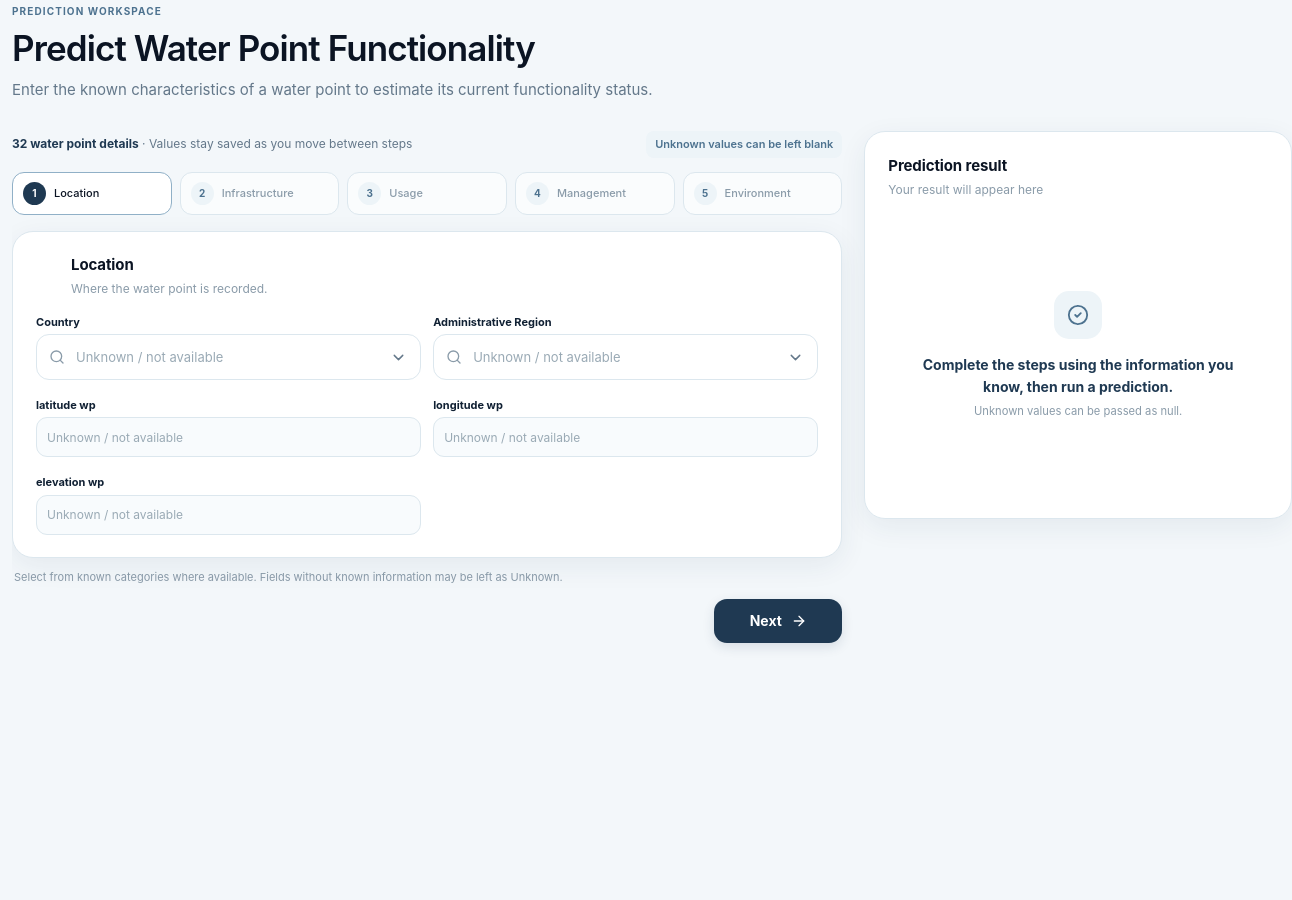
Scenario: production prediction input UX › shows a friendly error when the backend rejects prediction
This screenshot has width=1292, height=900.
Expected: the dropdown labelled "Country" is shown, [36,334,421,380]
Click the button "Next".
click(778, 621)  # box [714,599,842,643]
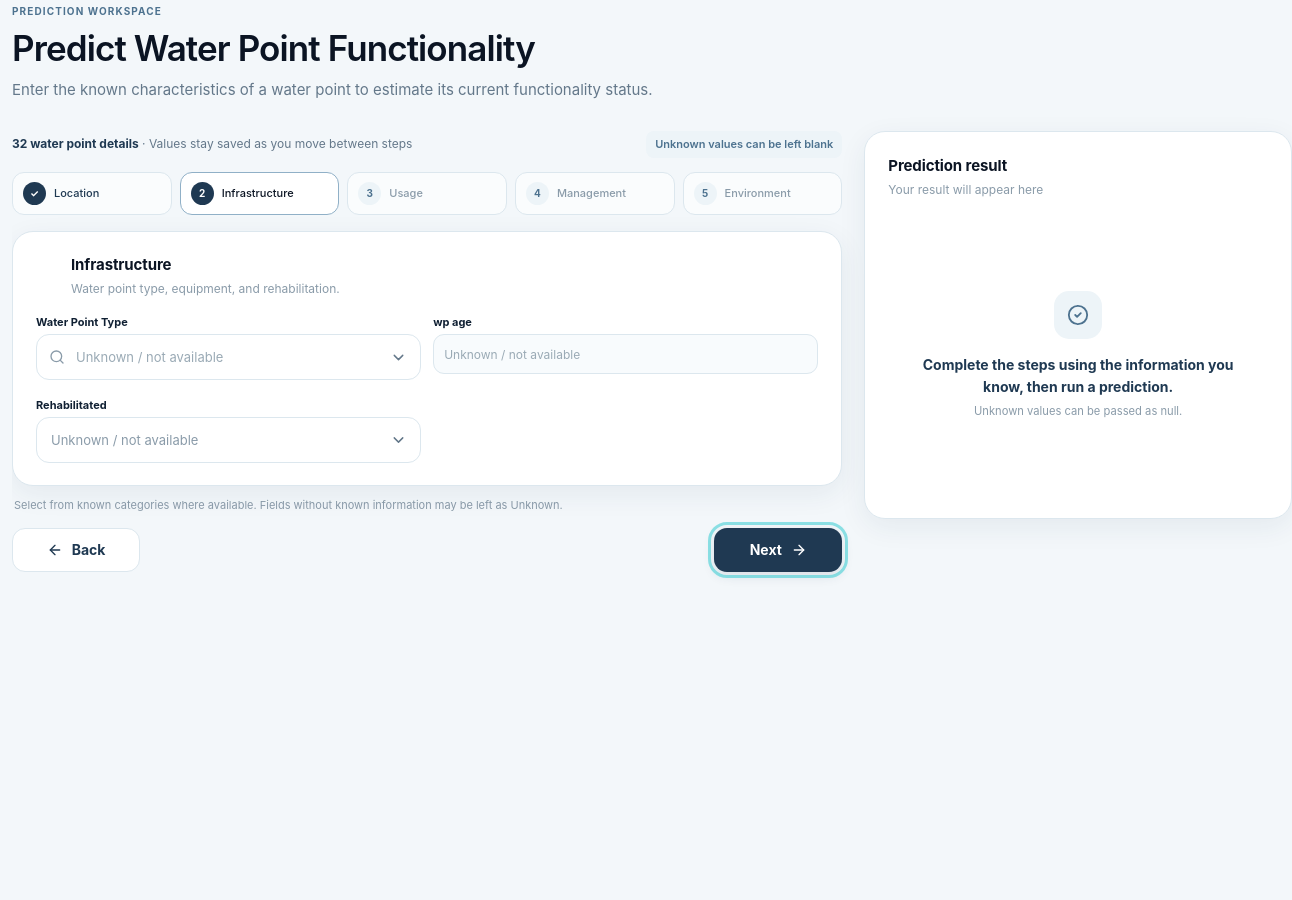
Click the button "Next".
click(778, 550)  # box [714,528,842,572]
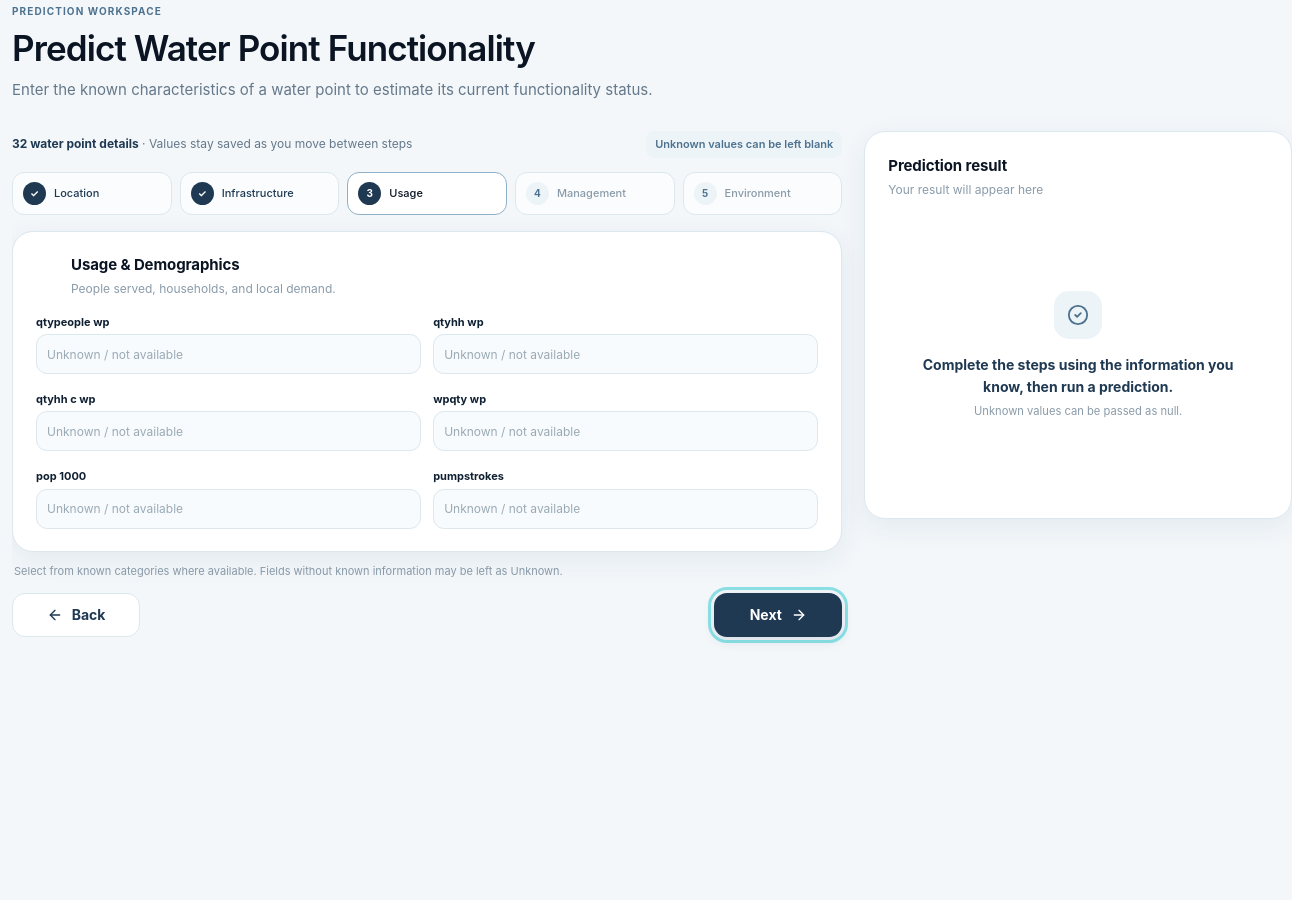
Click the button "Next".
click(778, 615)  # box [714,593,842,637]
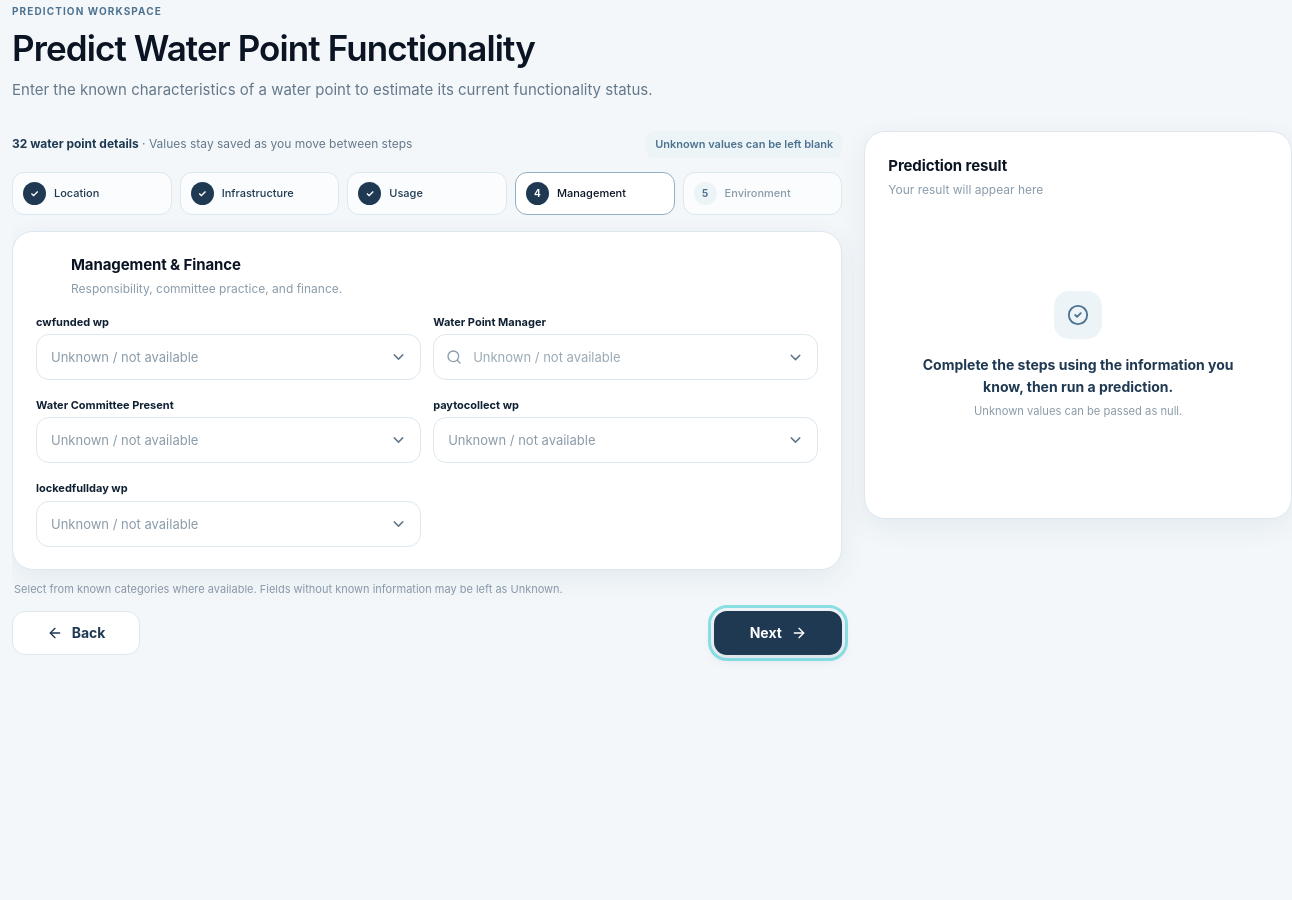
Click the button "Next".
click(778, 633)  # box [714,611,842,655]
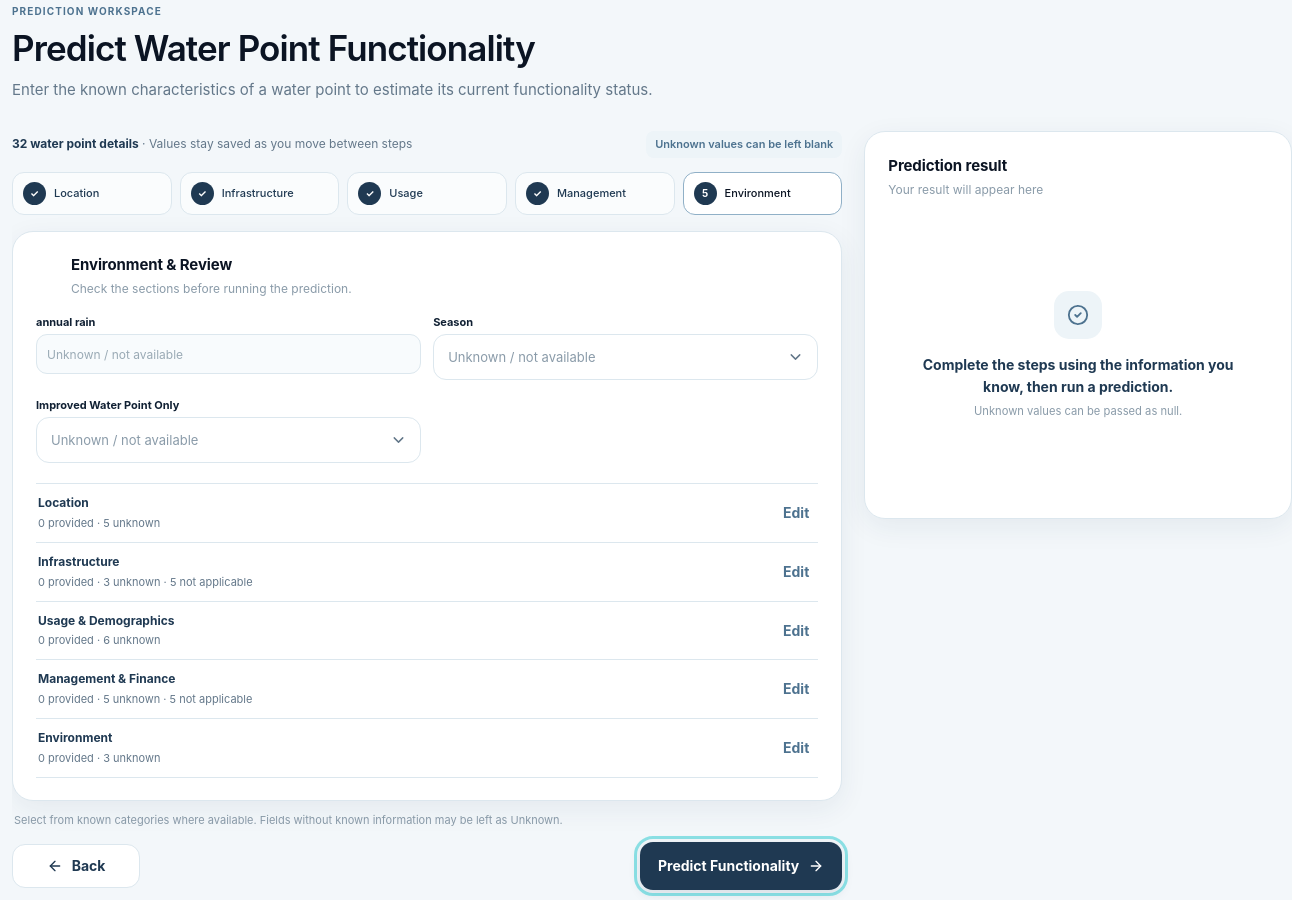
Click the button "Predict Functionality".
click(741, 866)  # box [640,842,842,890]
(page scrolled)
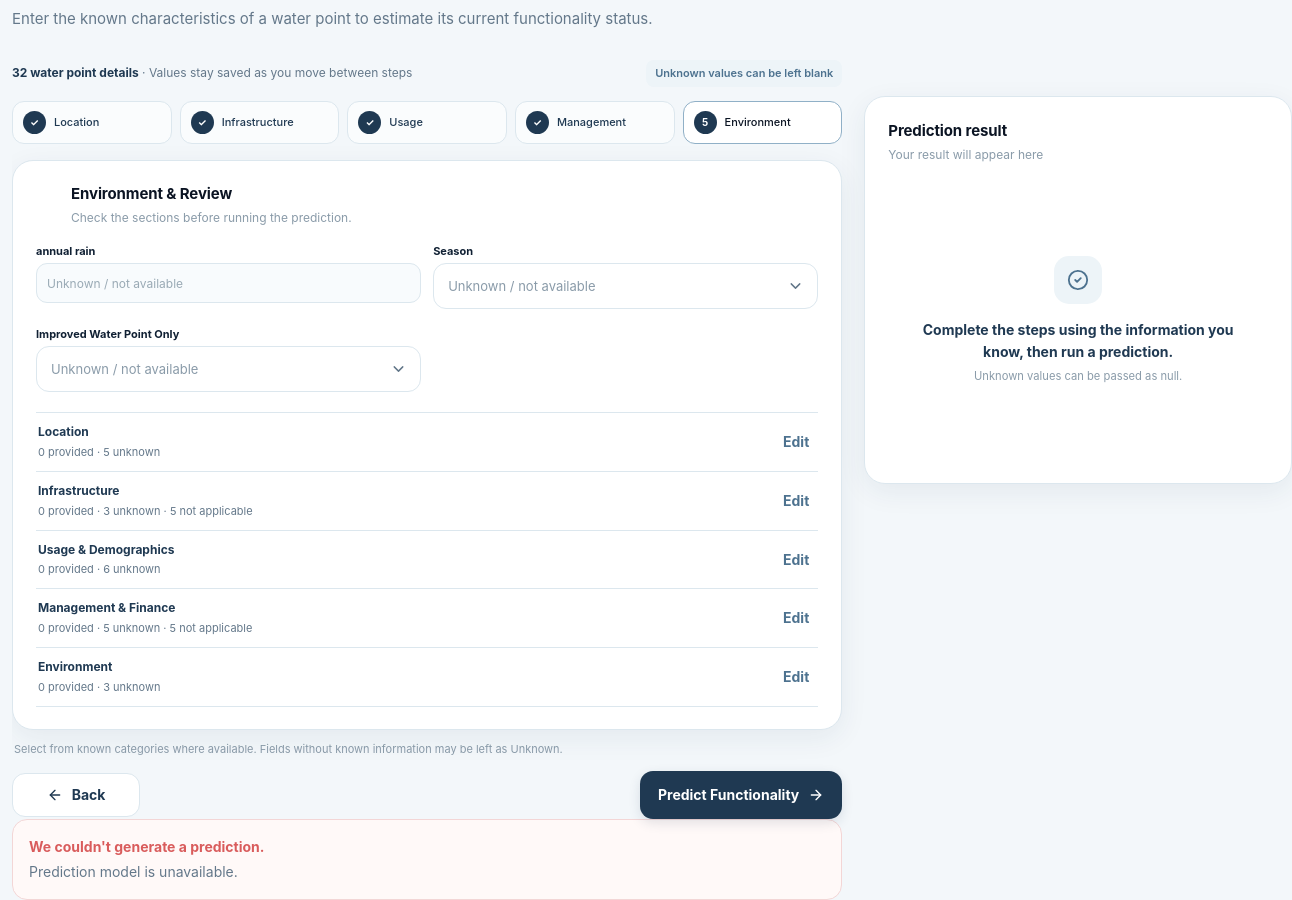
Now the message shows "Prediction model is unavailable.", box [29,863,238,880]
